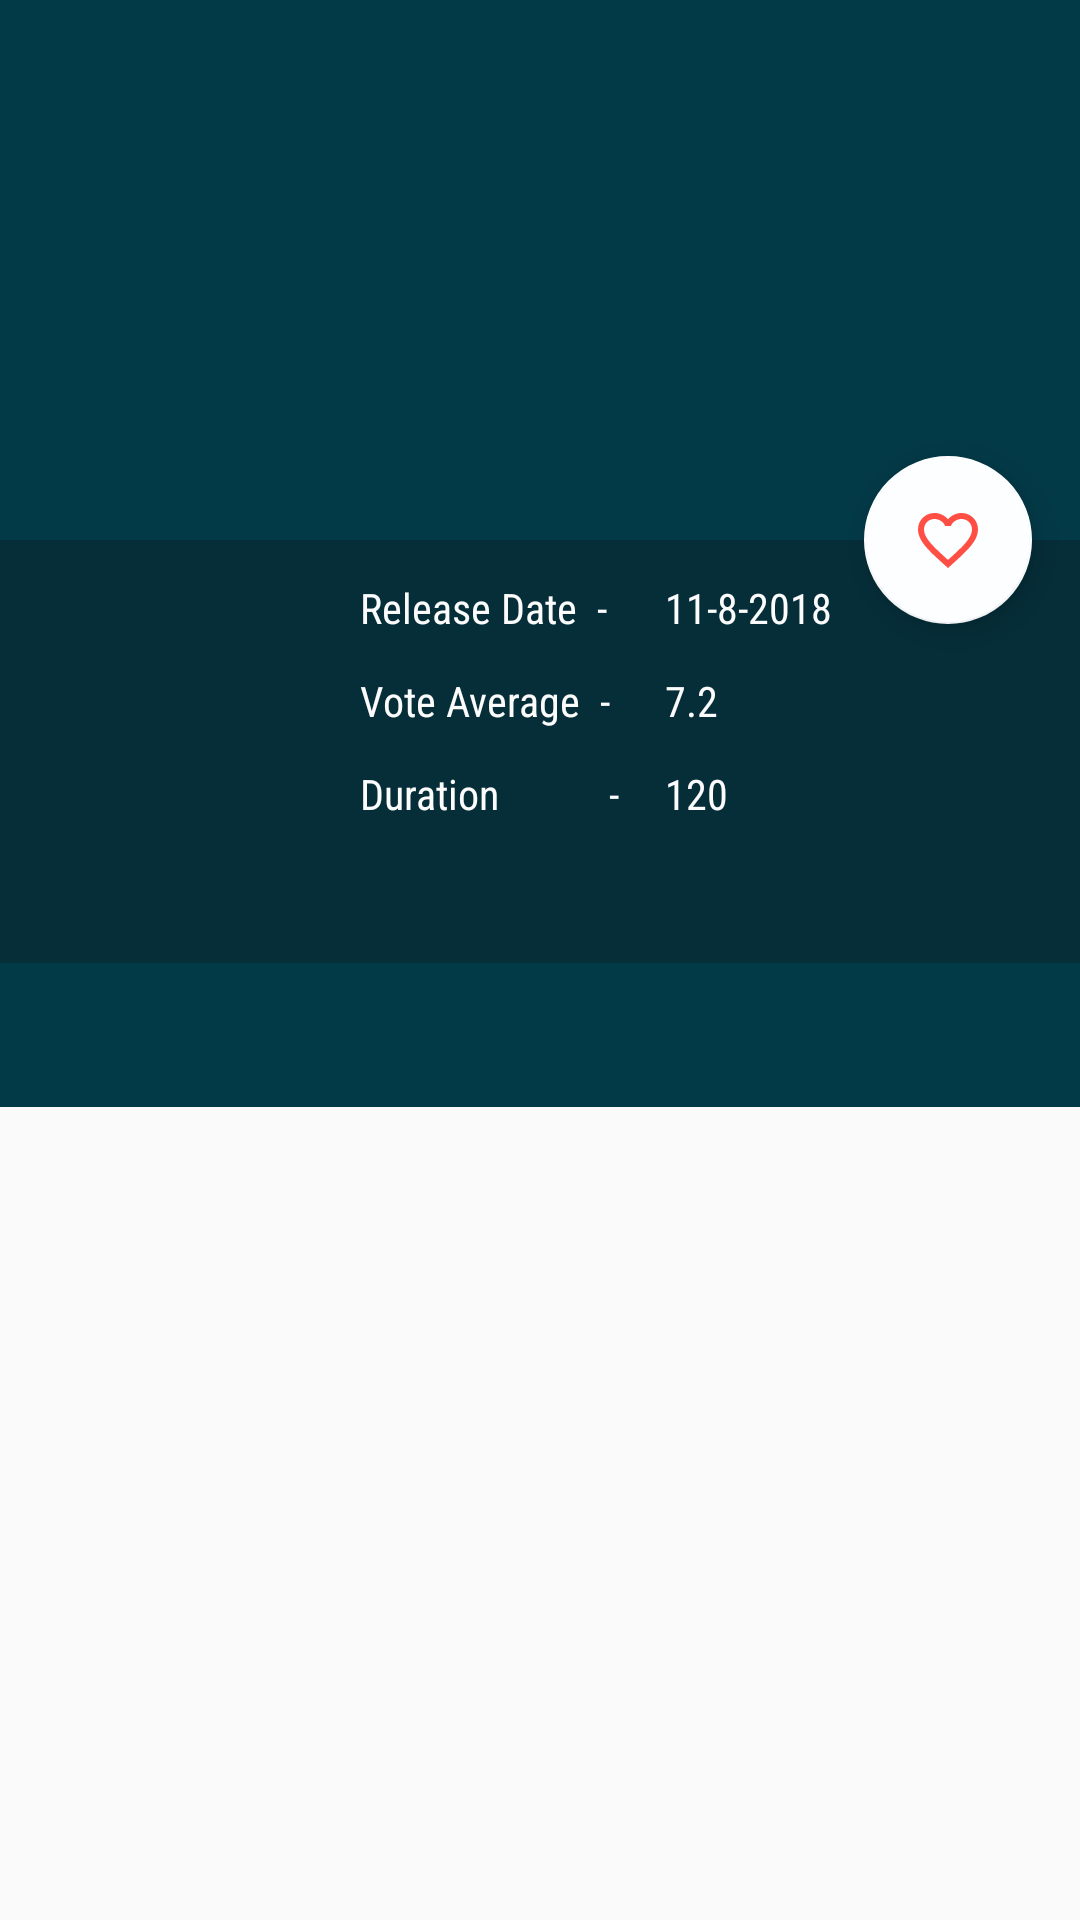

Named icons in this screenshot (1080w x 1920h) and their centers, (x=x, y=y):
unfavourite: (x=948, y=540)
